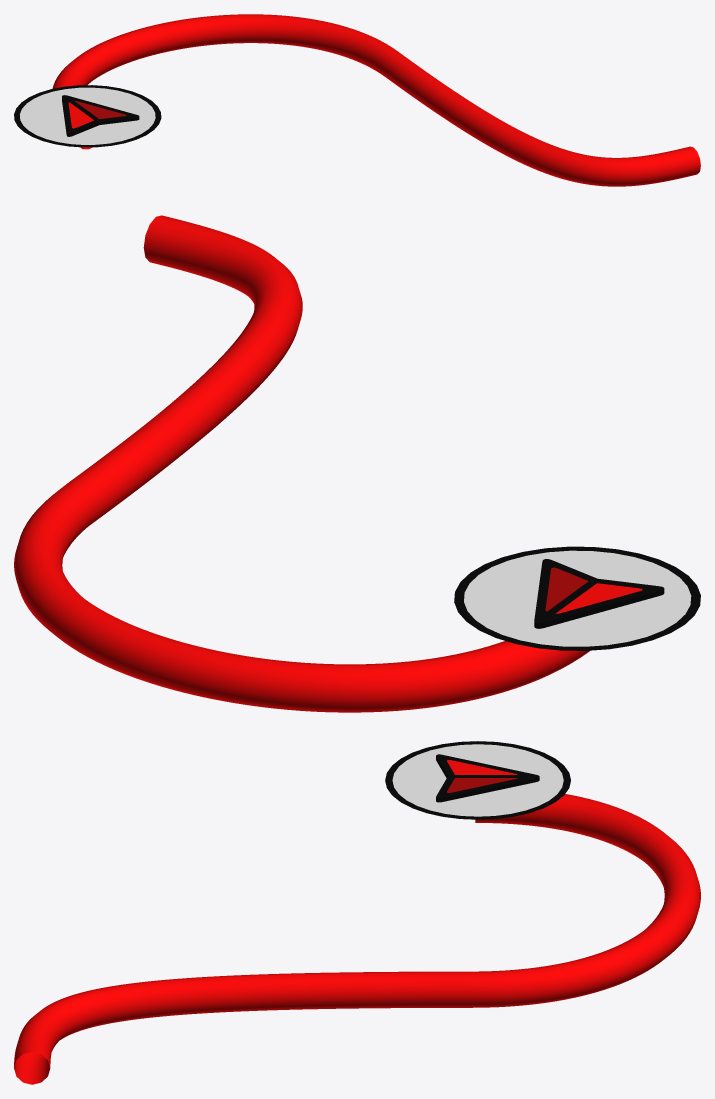
Rendered from route_491d5fce-3763-43a7-9a23-0abf11de7ba1_en_target.glb.
3 renders of one model, top to bottom at view 1: azimuth 30°, elevation 25°; view 2: azimuth 150°, elevation 25°; view 3: azimuth 270°, elevation 25°, orthographic. The views are drawn at different scales.
Visible parts, largest first — view 1: Strahlentherapie und onkologische Tagesklinik, Navipfeil.002; view 2: Strahlentherapie und onkologische Tagesklinik, Navipfeil.002; view 3: Strahlentherapie und onkologische Tagesklinik, Navipfeil.002.
Boxes of the visible parts, x1,y1,x2,y2 form: Strahlentherapie und onkologische Tagesklinik: (52, 14, 700, 186); Navipfeil.002: (14, 85, 161, 147); Strahlentherapie und onkologische Tagesklinik: (14, 215, 589, 712); Navipfeil.002: (454, 546, 700, 650); Strahlentherapie und onkologische Tagesklinik: (14, 794, 700, 1084); Navipfeil.002: (385, 741, 570, 819).
Bounding box in the file's own units: 1.57 × 0.1086 × 1.51.
